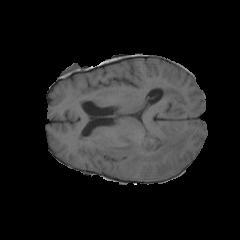glioma: (103, 123, 192, 178)
